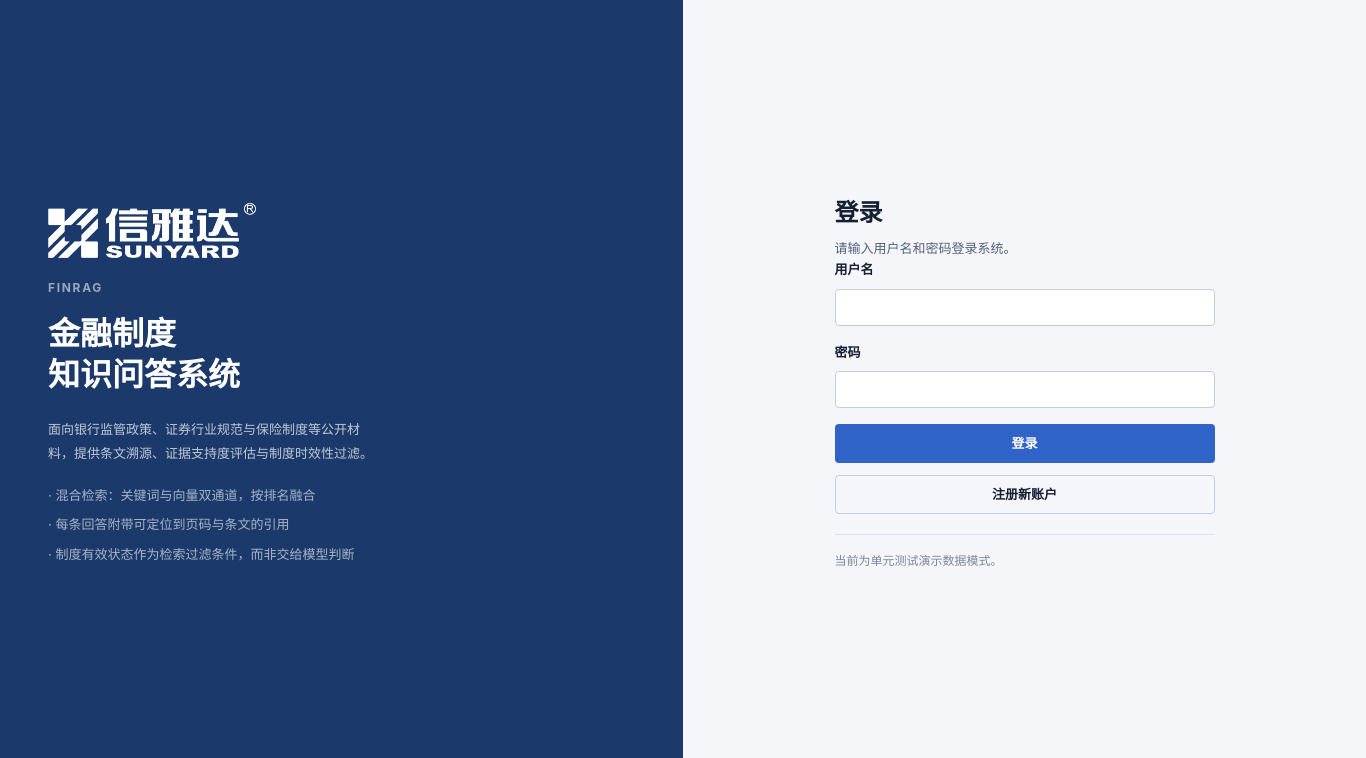
制度问答页 › 未检索到证据时给出无依据回答且不展示引用
This screenshot has width=1366, height=758.
Type "user" into the field labelled "用户名" at (1024, 307), box [834,289,1214,326]
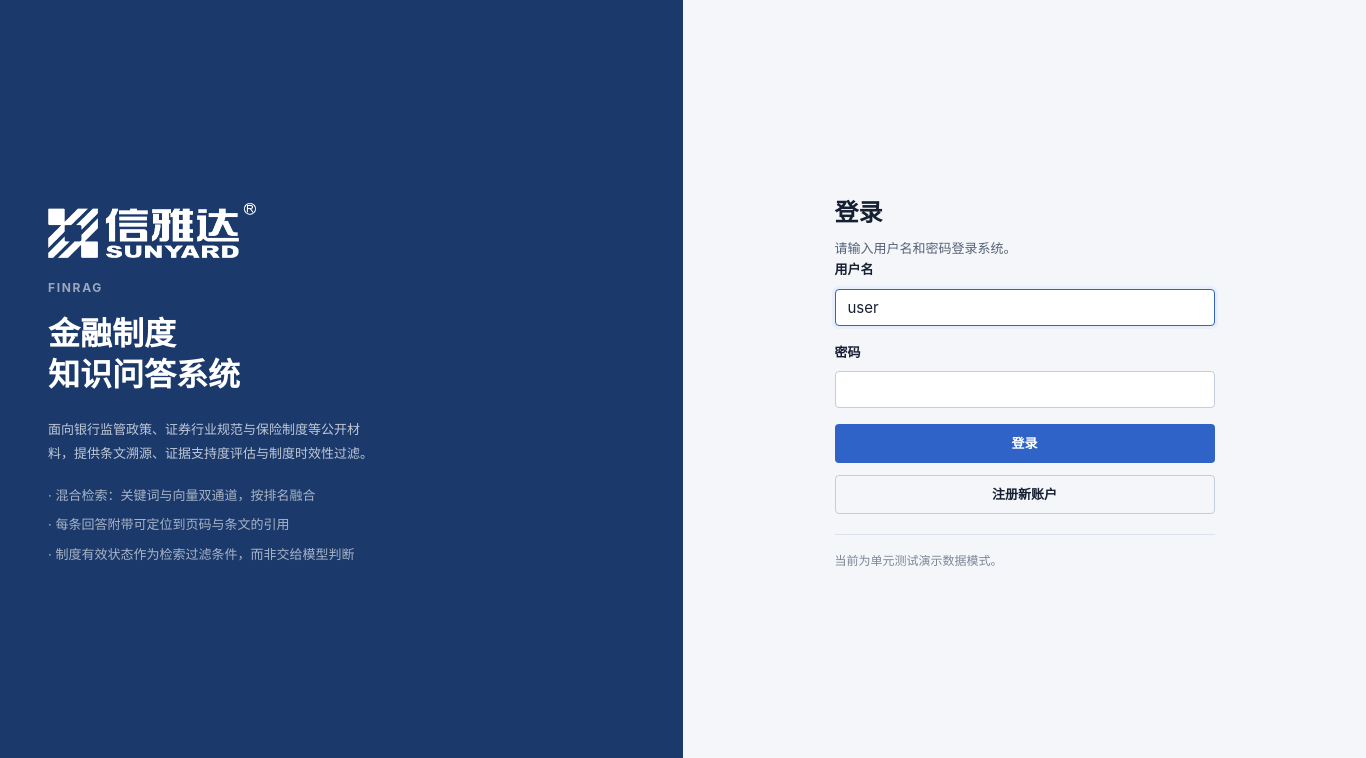
Type "finrag2026" into the password field labelled "密码" at (1024, 390), box [834,371,1214,408]
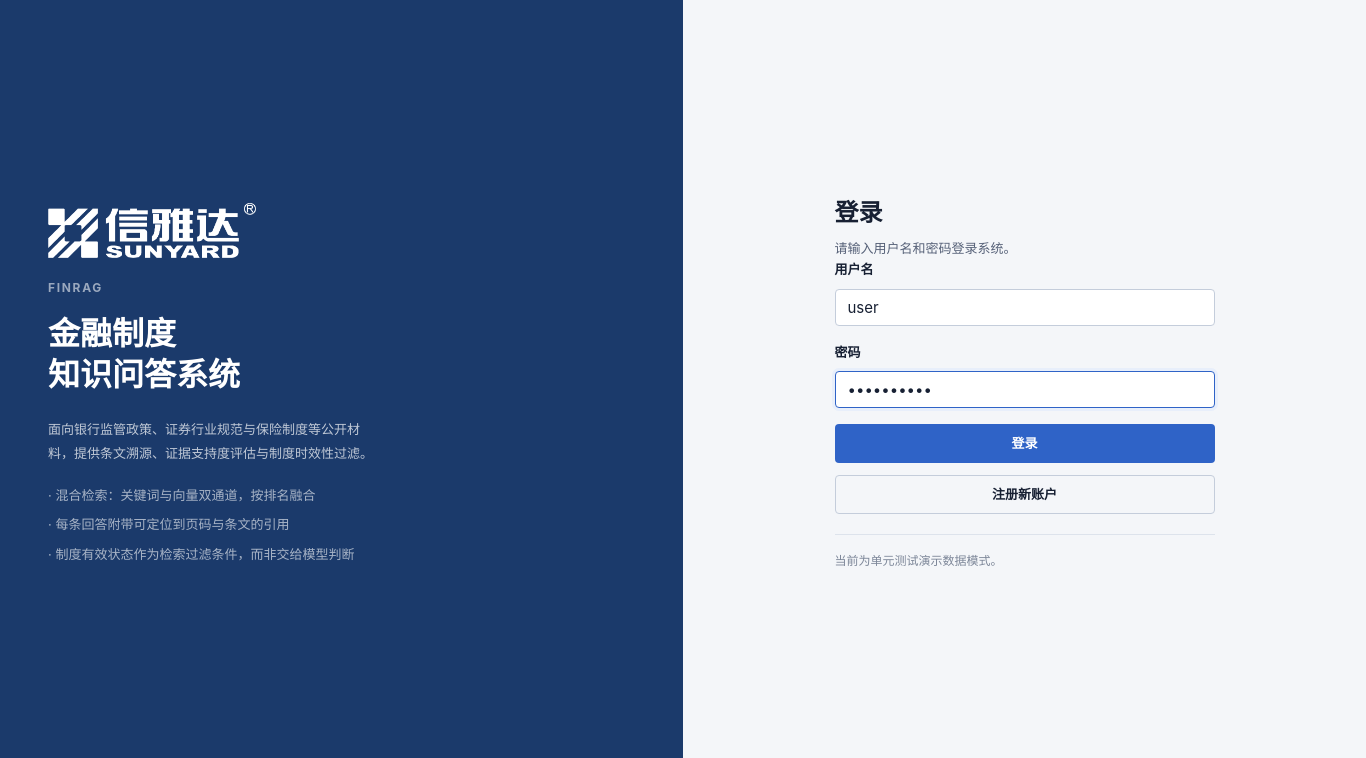
Click the button "登录" at (1024, 444), box [834,424,1214,463]
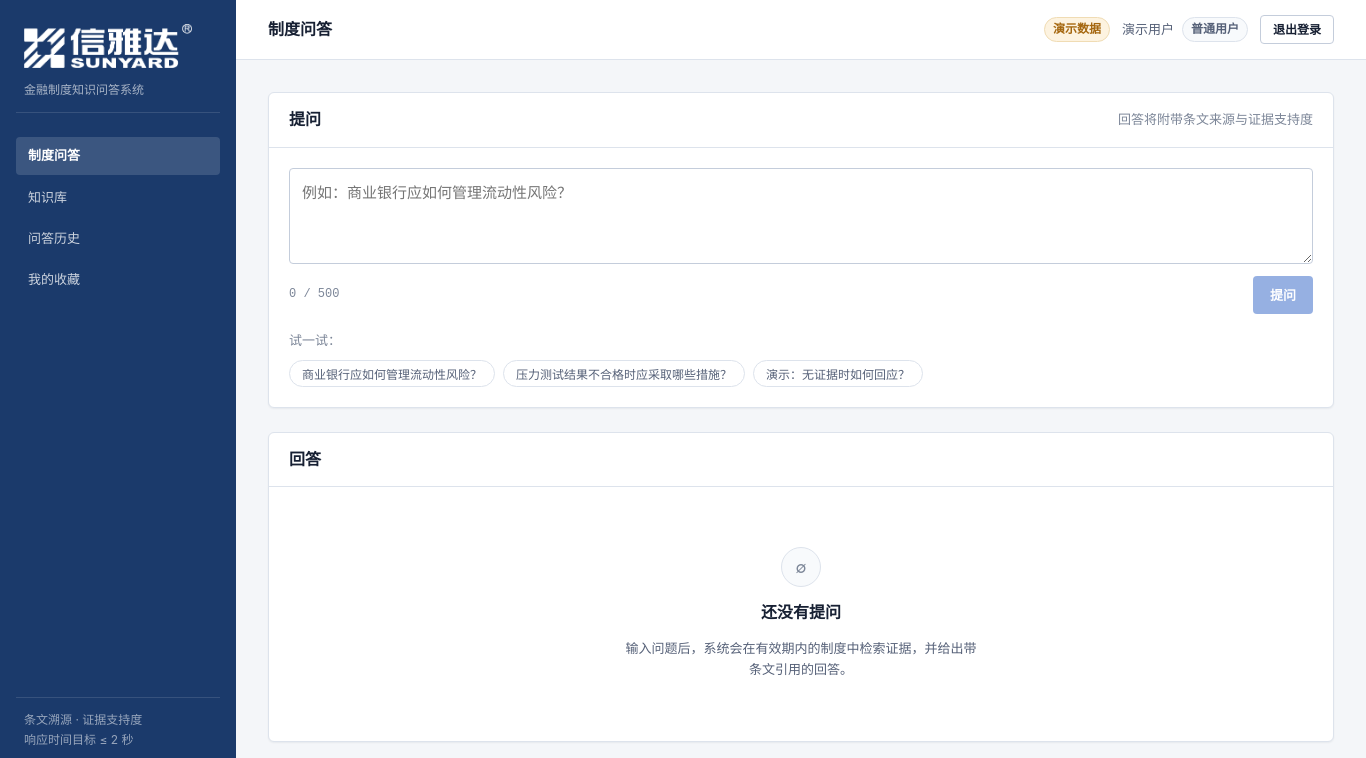
Expected: the heading "提问" is shown, [289,109,321,131]
Click the button "演示：无证据时如何回应？" at (838, 373), box [753,360,923,387]
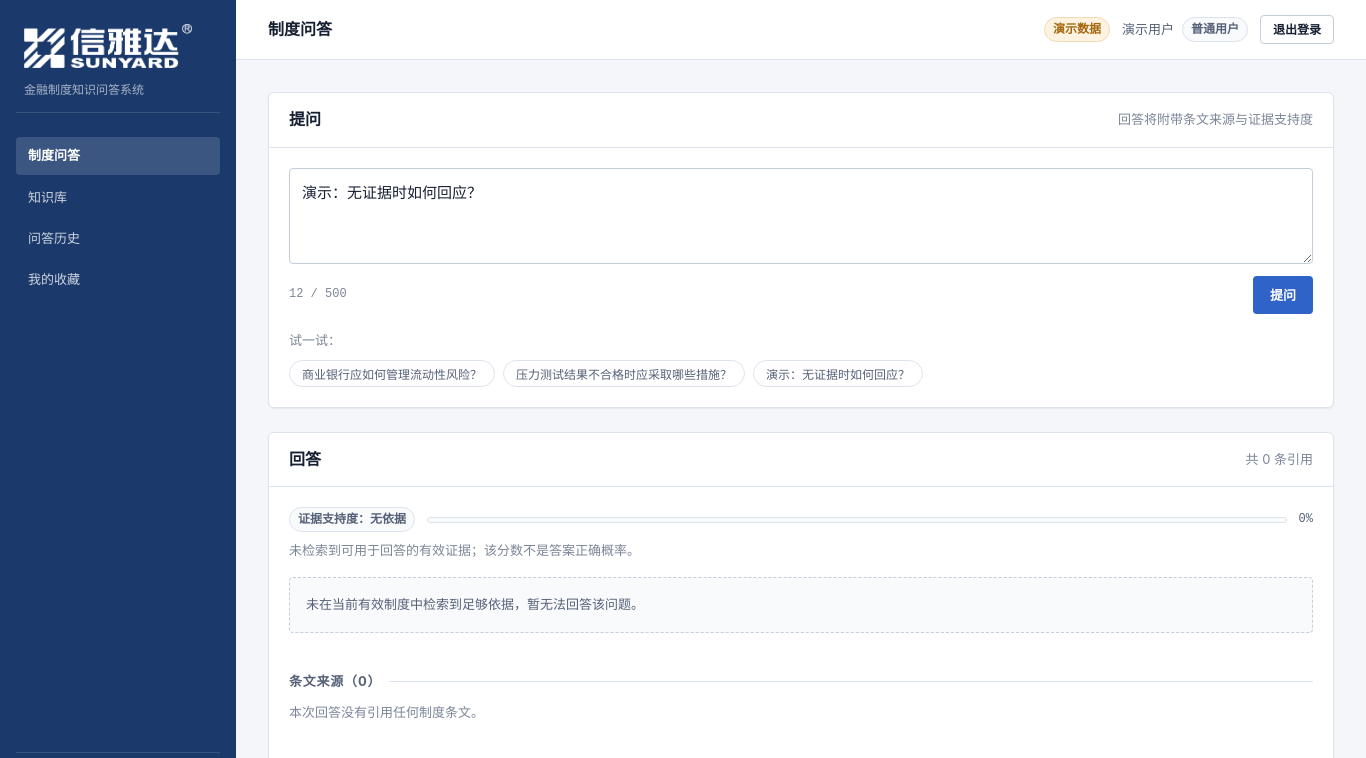
Expected: the text "未在当前有效制度中检索到足够依据，暂无法回答该问题。" is shown, [289,577,1313,633]
Expected: the text "本次回答没有引用任何制度条文。" is shown, [289,704,484,720]
Expected: the text "证据支持度：无依据" is shown, [289,507,415,532]
